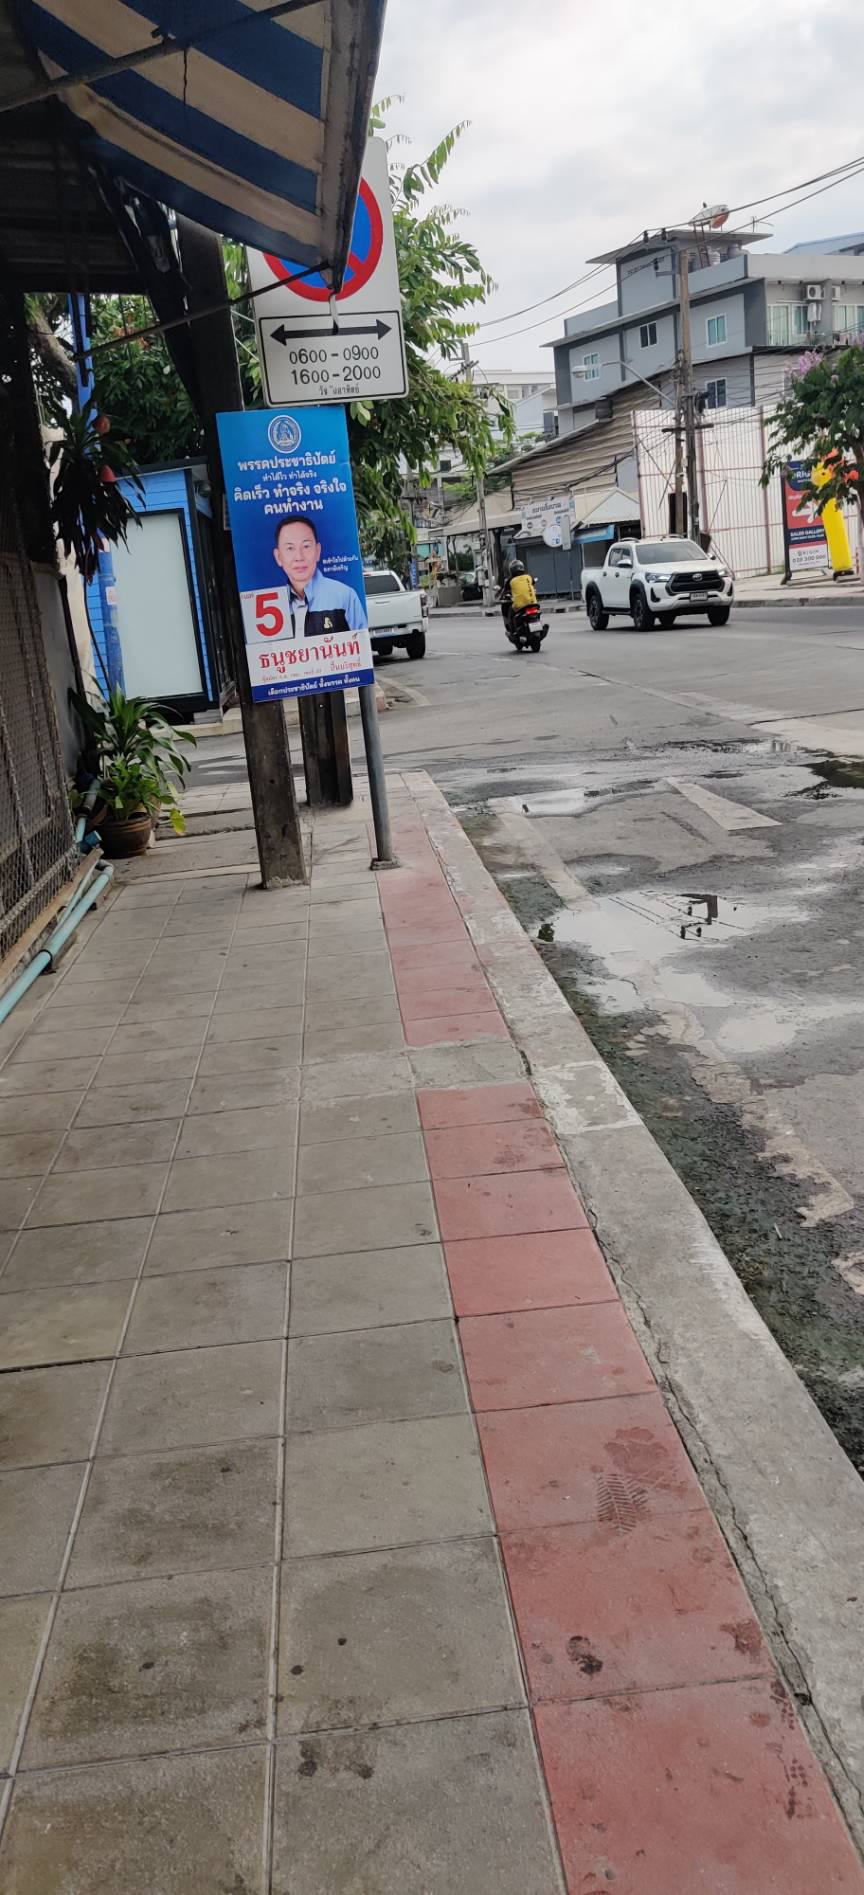Banner: (195, 408, 388, 694)
